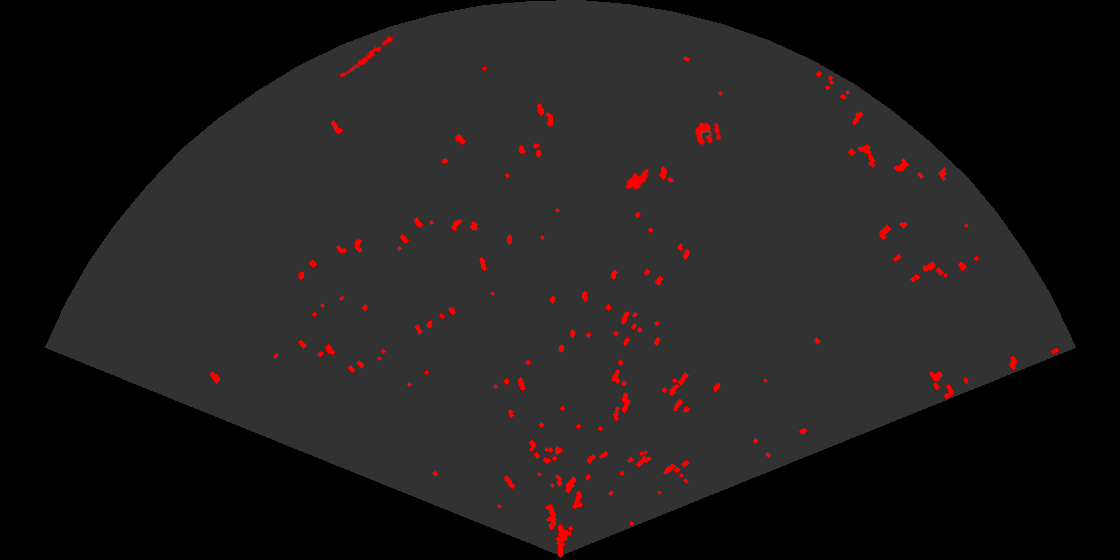AUV: (623, 167, 651, 191)
ball: (693, 120, 723, 147)
chain: (335, 30, 401, 83)
